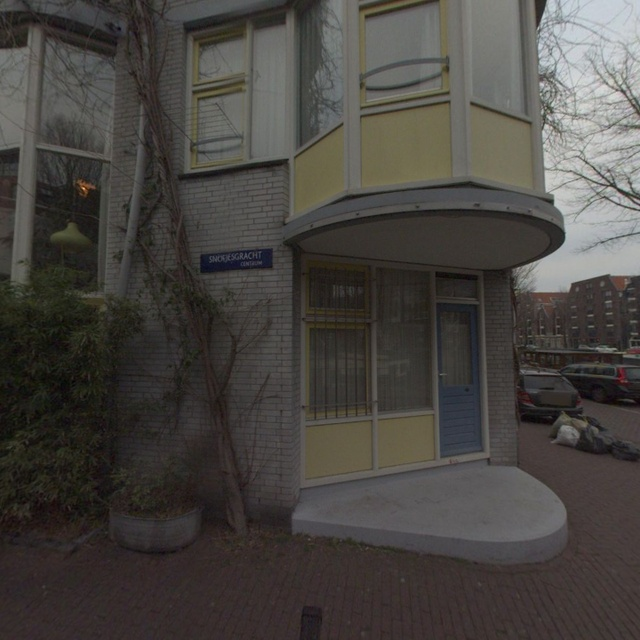Bulky Waste: (551, 410, 639, 460)
